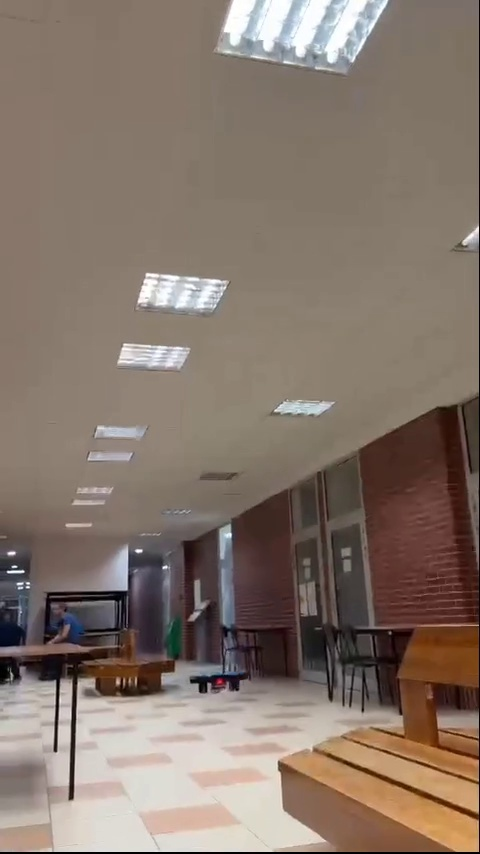drone: (187, 671, 247, 693)
no vest: (45, 600, 88, 656)
